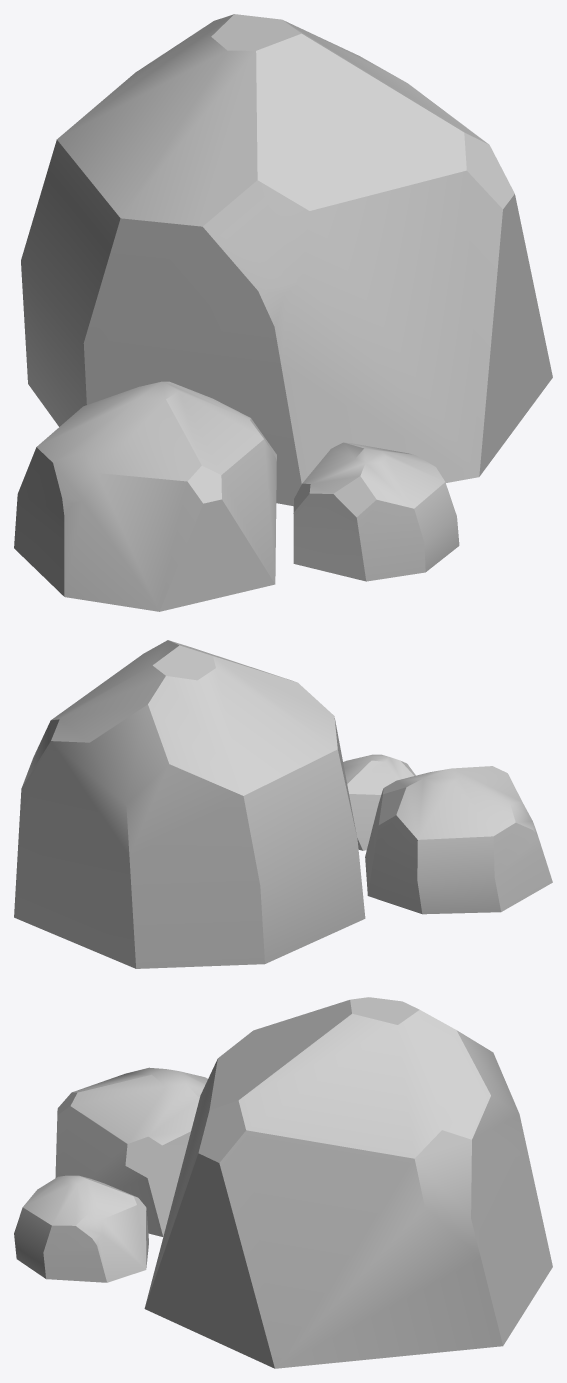
The model's file is rocks.fbx.
3 renders of one model, top to bottom at view 1: azimuth 30°, elevation 25°; view 2: azimuth 150°, elevation 25°; view 3: azimuth 270°, elevation 25°, orthographic. The views are drawn at different scales.
Parts seen in each view (by area): view 1: Cube; view 2: Cube; view 3: Cube.
Part boxes in pixels (x1=…): Cube: x1=14, y1=14, x2=552, y2=611; Cube: x1=14, y1=640, x2=552, y2=968; Cube: x1=14, y1=997, x2=552, y2=1368.
Size of the model in its own units: 0.892 by 0.5189 by 0.9049.
Materials: 1 (1 with a texture image).
